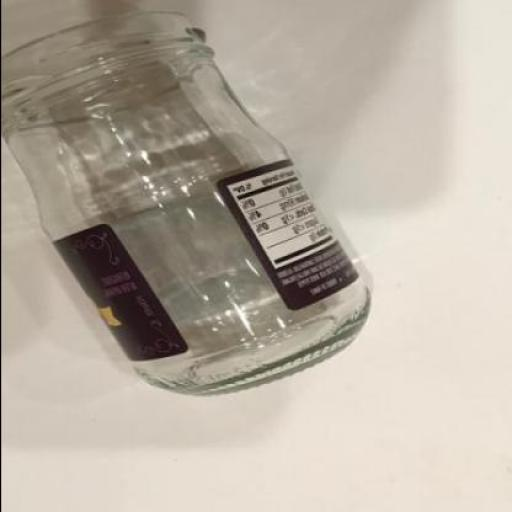glass: (2, 14, 370, 398)
